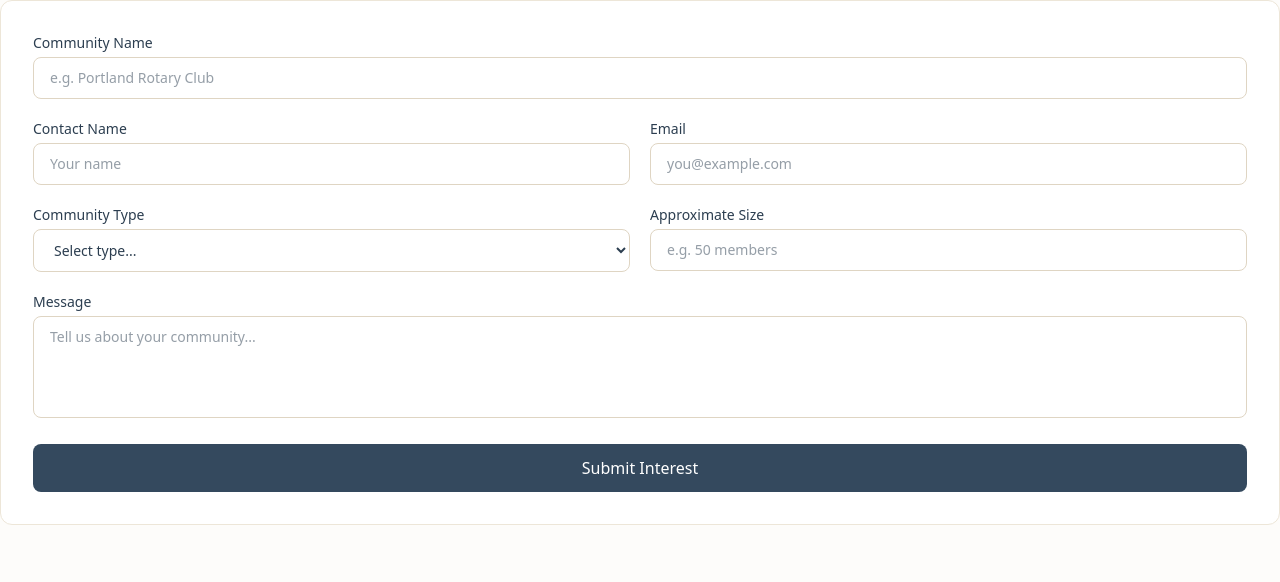
Test: PartnershipInterestForm › shows email required error when email is empty
Type "Test" into the field labelled "Community Name" at coordinates (640, 78), box [33,57,1247,99]
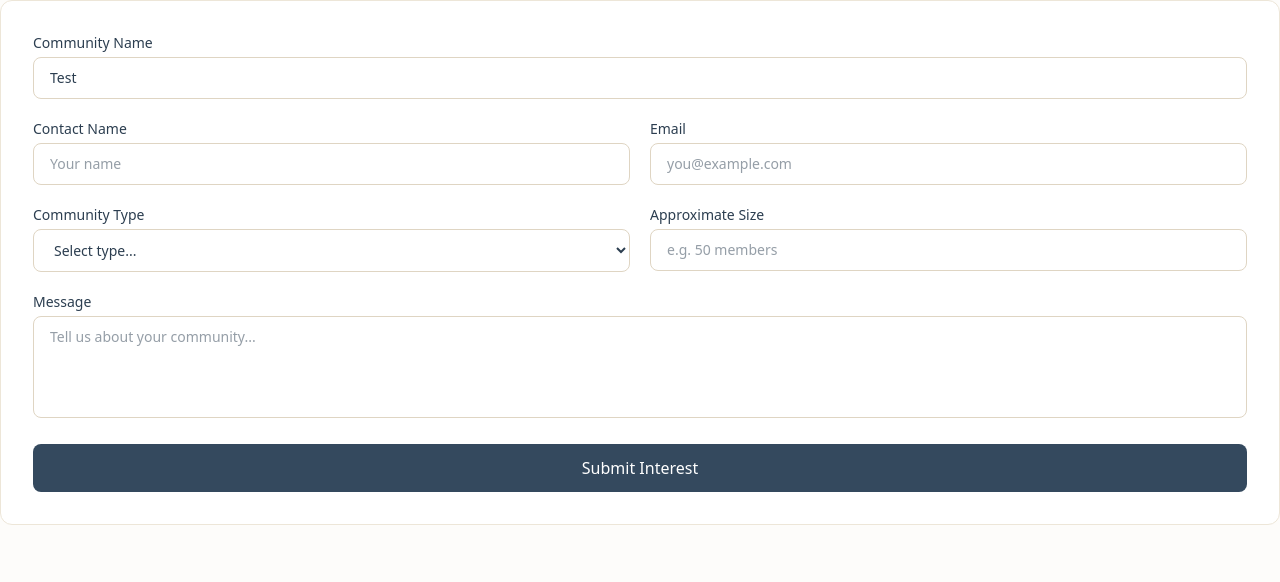
Type "John" into the field labelled "Contact Name" at coordinates (332, 164), box [33,143,630,185]
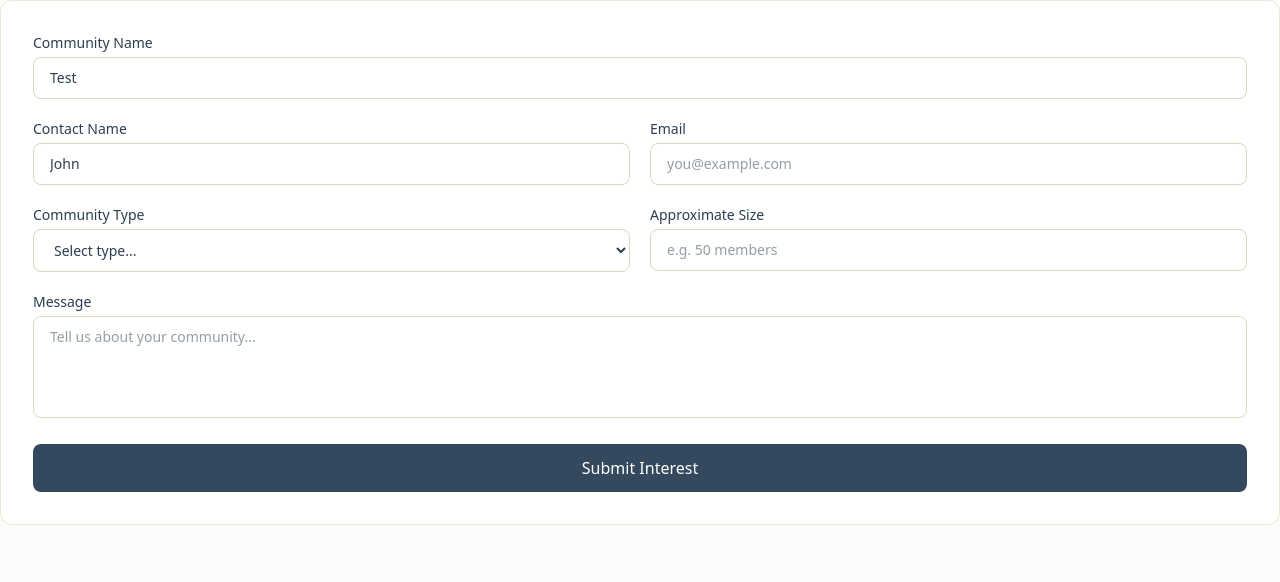
Click the button "Submit Interest" at coordinates (640, 468), box [33,444,1247,492]
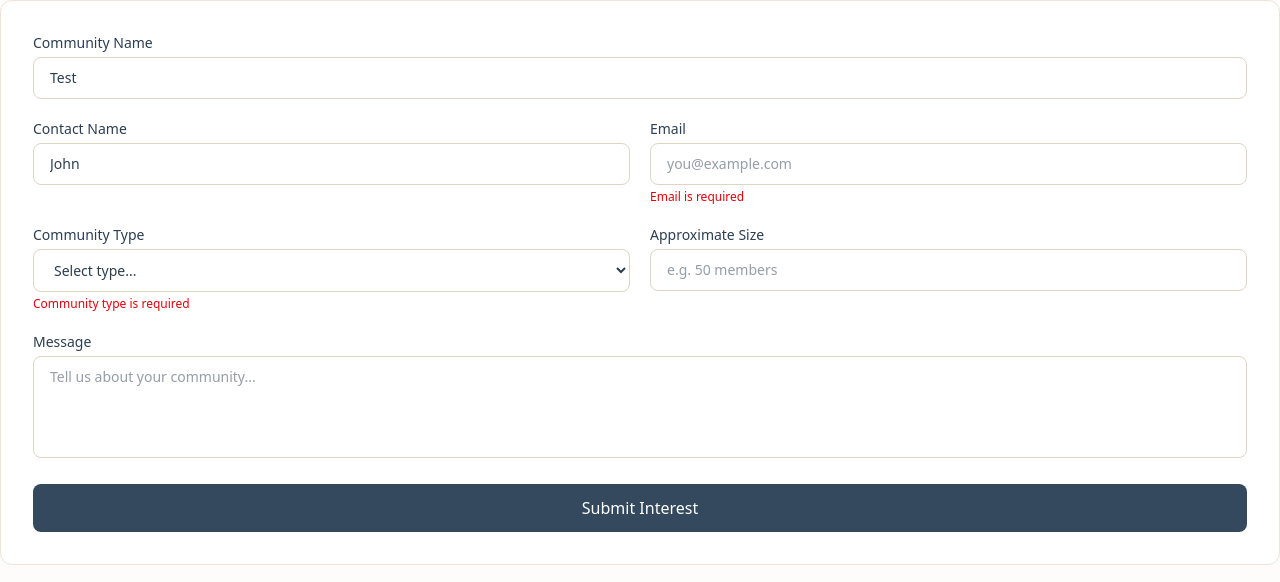
Now the text "Email is required" is shown, box [650,188,744,205]
